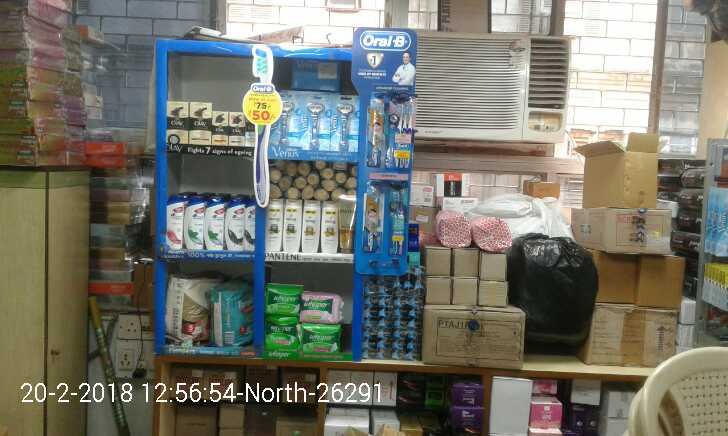venus: (298, 92, 330, 150), (330, 94, 360, 150), (273, 92, 298, 145)
